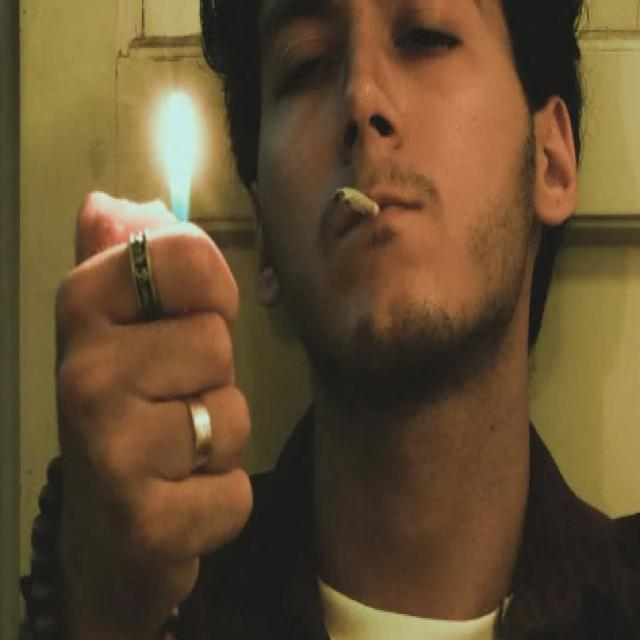fire: (165, 94, 192, 222)
